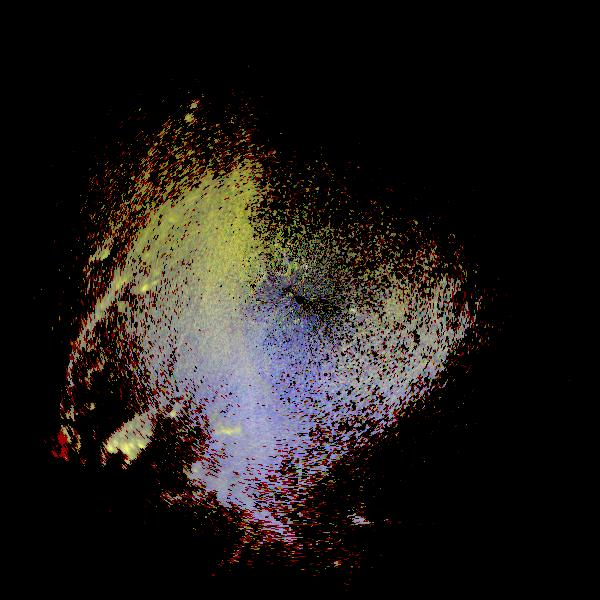roost: (350, 306, 359, 315)
